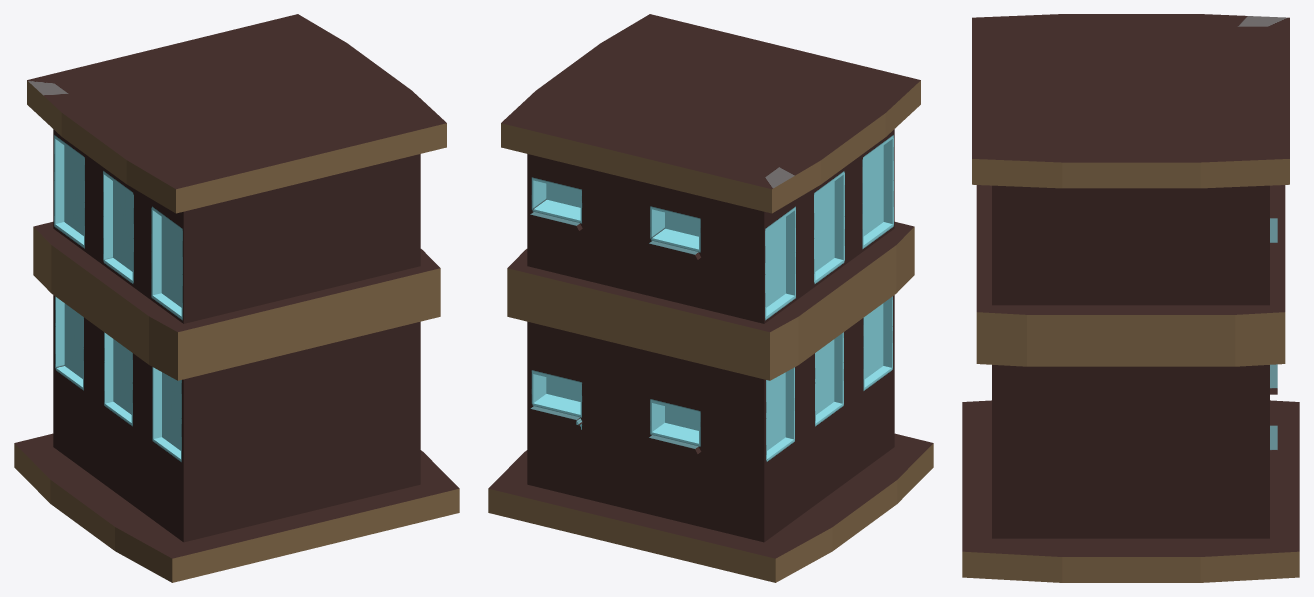
Rendered from Buidling.fbx.
The picture shows the model from 3 angles, left to right: view 1: azimuth 30°, elevation 25°; view 2: azimuth 150°, elevation 25°; view 3: azimuth 270°, elevation 25°; orthographic projection. The views are drawn at different scales.
Visible parts, largest first — view 1: Cube; view 2: Cube; view 3: Cube.
Part boxes in pixels (<box>): Cube: <box>14,14,459,582</box>; Cube: <box>488,14,933,582</box>; Cube: <box>962,14,1299,582</box>.
Bounding box in the file's own units: 779 × 938 × 692.
1 material, 1 textured.
